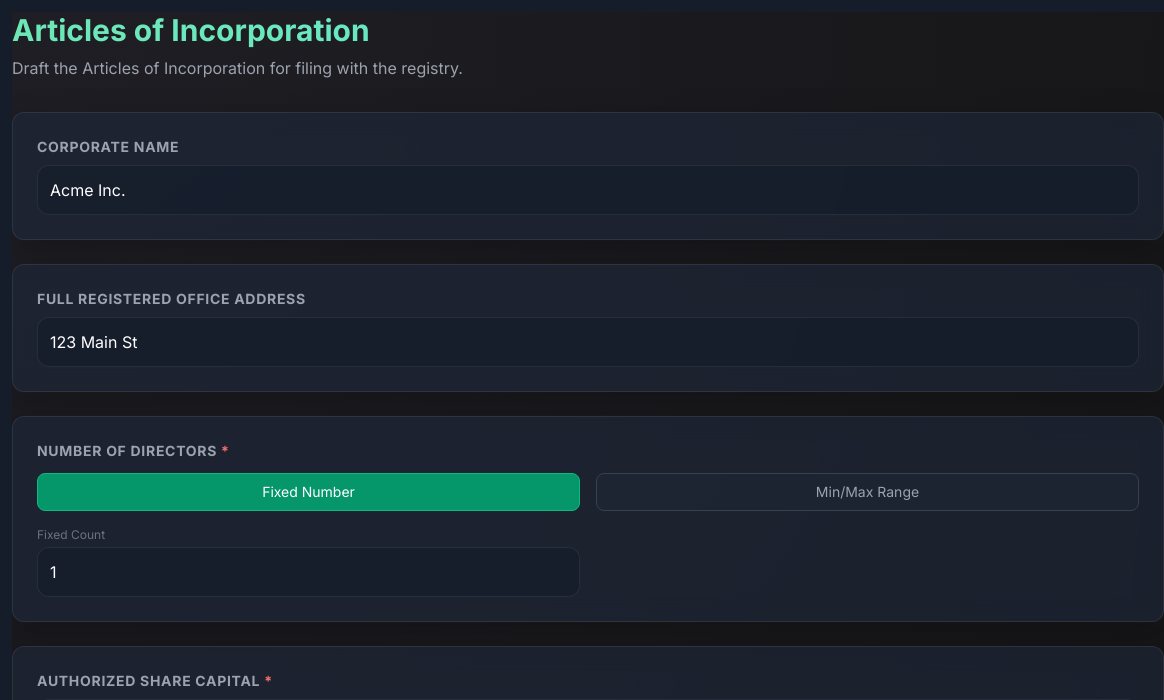
Test: ArticlesOfIncorp.vue › surfaces Step 2 director-count mismatch as an inline blocking error
The width and height of the screenshot is (1164, 700).
Replace the text in the number field with "2" at (308, 572), box [37, 547, 580, 597]
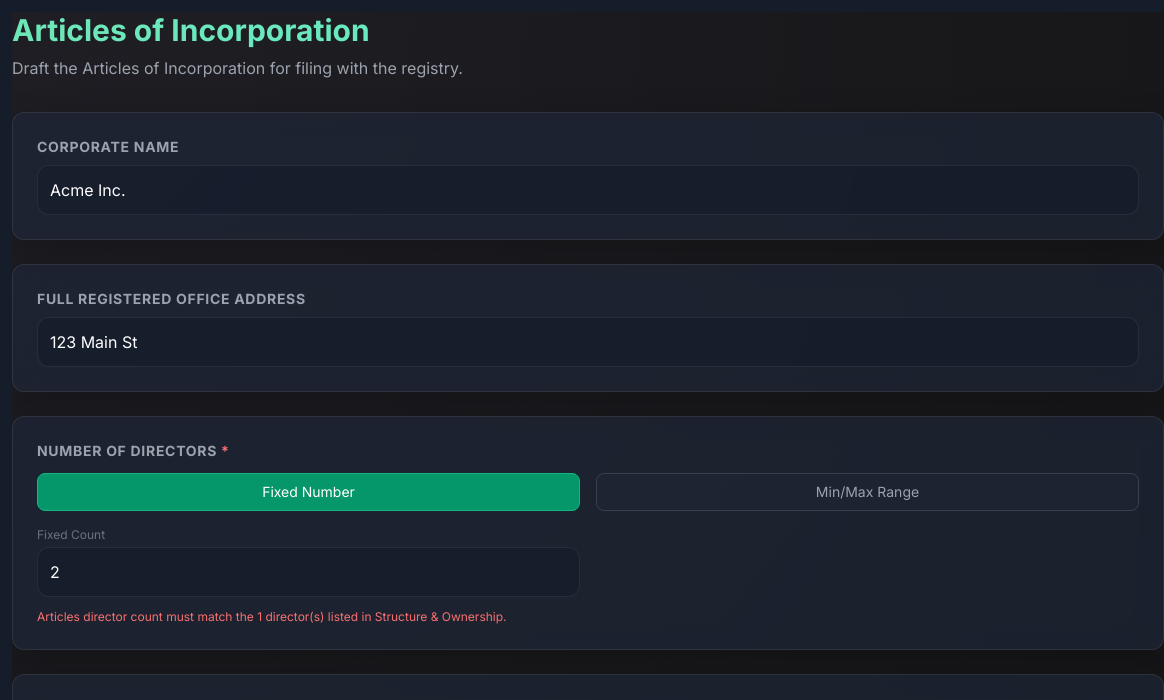
Expected: the text "Articles director count must match the 1 director" is shown, [37, 609, 506, 624]
